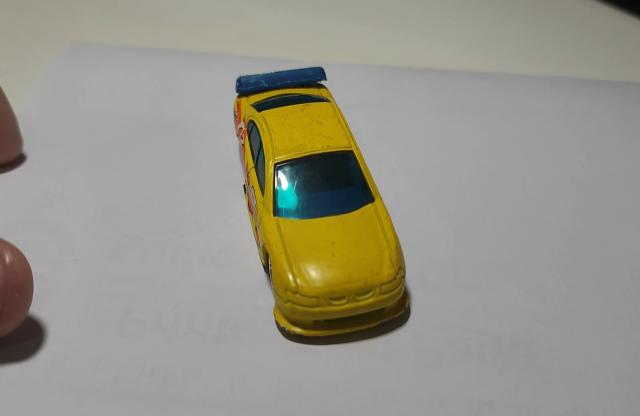02_OZSOME: (232, 67, 410, 336)
